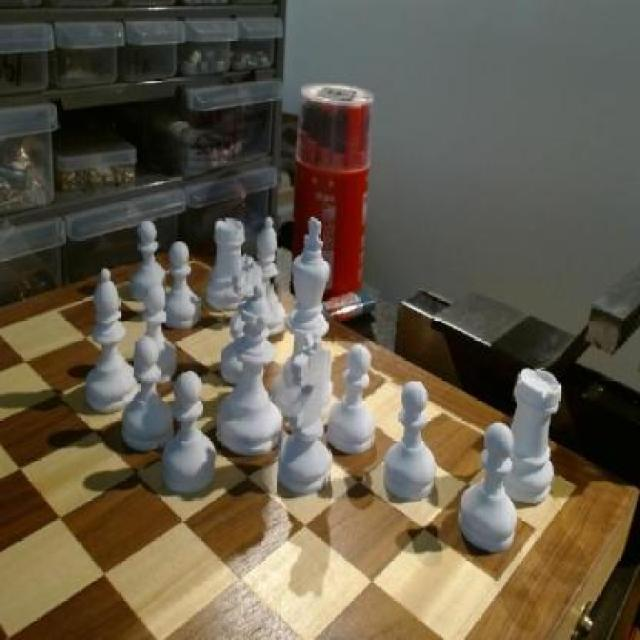black-rook: (84, 268, 138, 415), (252, 214, 286, 333)
white-bishop: (278, 217, 331, 416)
white-king: (280, 335, 335, 498), (220, 254, 265, 385)
white-knight: (458, 424, 520, 554), (383, 378, 439, 502), (160, 369, 216, 490), (123, 337, 175, 452), (329, 338, 378, 451), (136, 286, 176, 378), (166, 240, 203, 330), (130, 218, 166, 296)
white-pawn: (220, 280, 286, 450)
white-queen: (508, 370, 562, 506), (207, 220, 246, 313)
